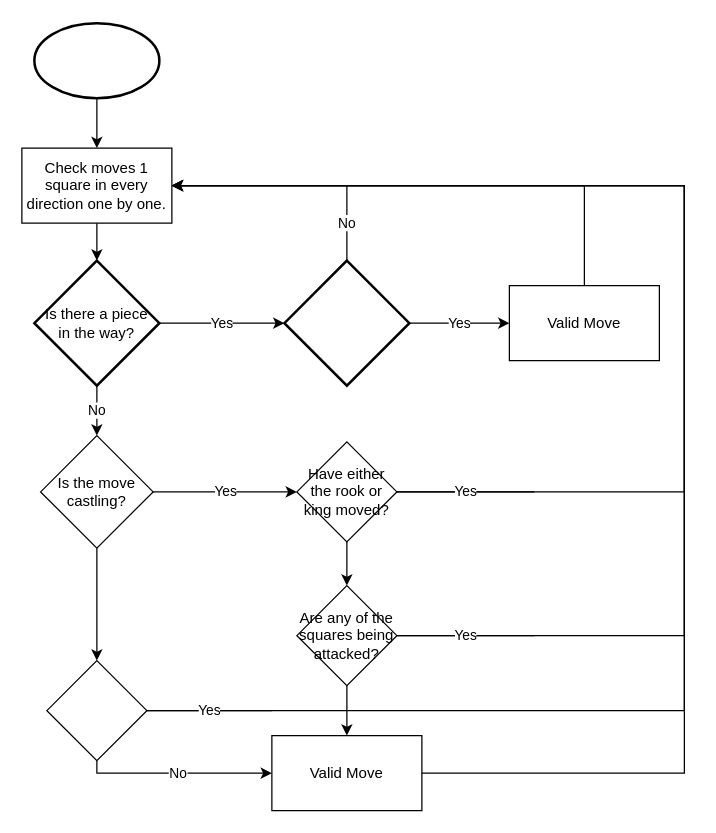
The diagram is 716 pixels wide and 833 high, and some of its shapes have lost their labels. Each missing label, with the centre of its shape:
"Is the piece black?" belongs at point (346, 322).
"Start" belongs at point (96, 60).
"Would the move put your king in check?" belongs at point (96, 710).
